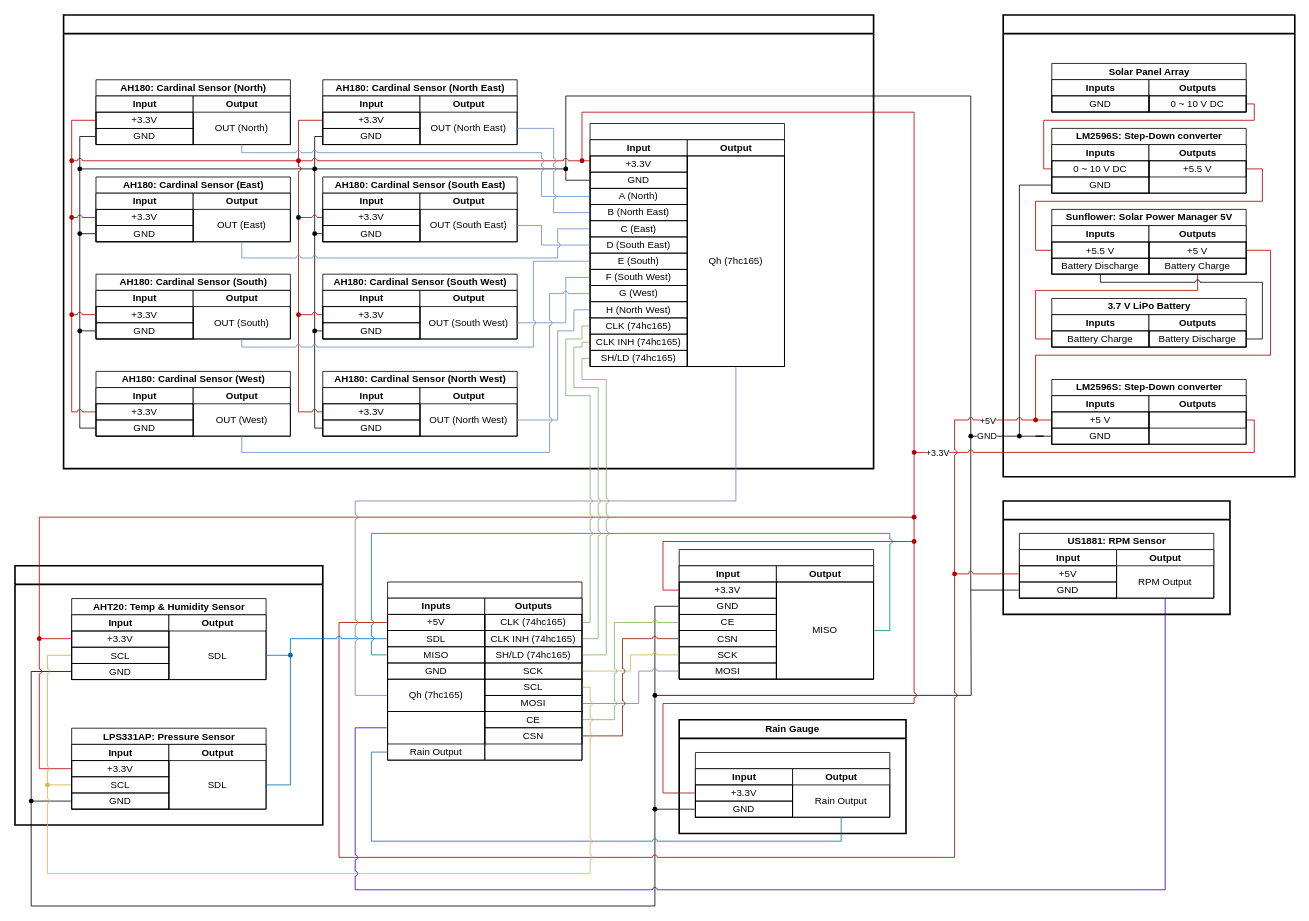
This 1309x921 diagram has some shape labels left out. Here are the shapes that lost their labels. From the top down, the box of each, then its label:
(62, 14, 874, 469): Wind Vane
(589, 123, 784, 367): SN74HC175N: PISO Shift Register
(1002, 14, 1295, 477): Power System
(1148, 411, 1246, 428): +3.3 V
(1002, 500, 1230, 615): Anemometer
(678, 549, 874, 679): NRF24L01 + PA + LNA
(387, 581, 582, 760): Arduino Nano
(14, 565, 323, 825): Solar Radiation Shield
(387, 711, 485, 744): RPM Output (US1881)
(695, 752, 890, 817): AH180: Rain Gauge
